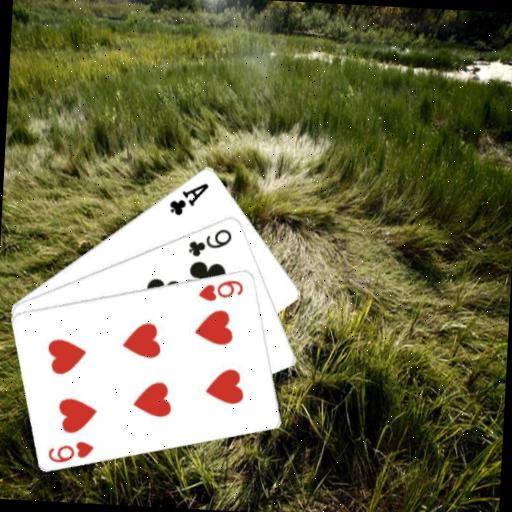6H: (44, 436, 96, 466), (195, 274, 245, 304)
9C: (185, 224, 234, 260)
AC: (166, 178, 211, 219)
